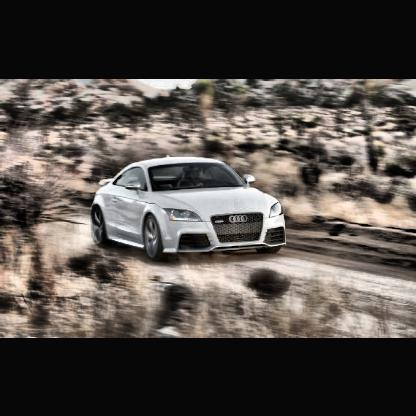Audi TT RS Coupe 2012: (91, 154, 287, 262)
